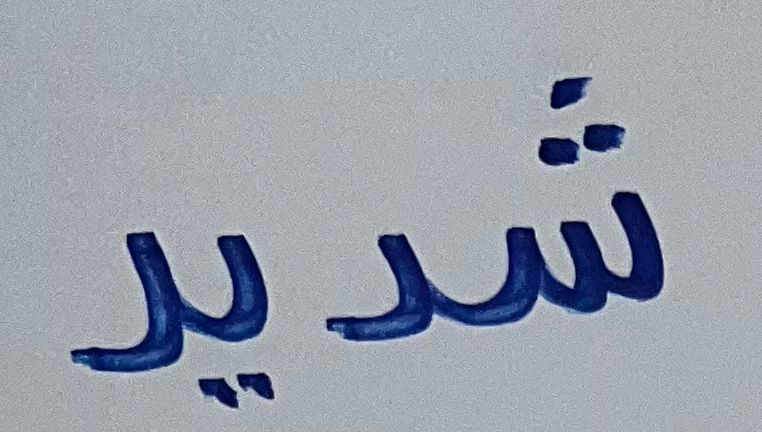lam: (43, 177, 187, 397)
sheen: (467, 63, 681, 329)
yeh: (321, 183, 458, 367), (190, 206, 307, 412)
